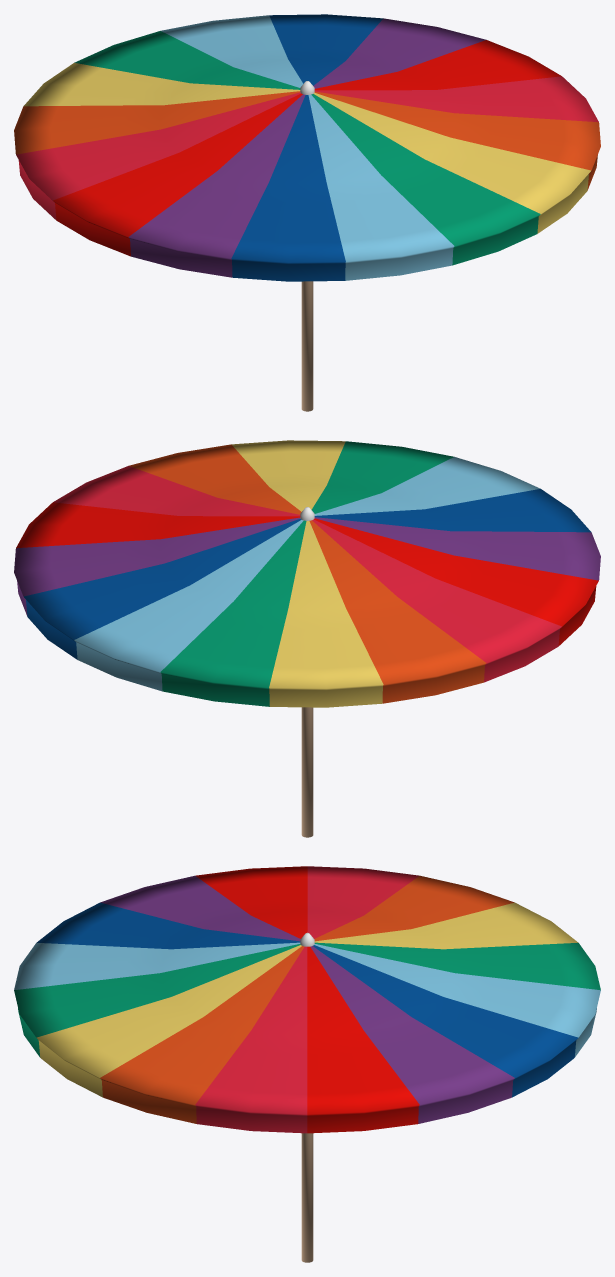
The model's file is parasail.glb.
The picture shows the model from 3 angles, top to bottom: view 1: azimuth 30°, elevation 25°; view 2: azimuth 150°, elevation 25°; view 3: azimuth 270°, elevation 25°; orthographic projection.
Parts seen in each view (by area): view 1: Umbrella; view 2: Umbrella; view 3: Umbrella.
Part boxes in pixels (bbox=[...]): Umbrella: bbox=[14, 14, 600, 411]; Umbrella: bbox=[14, 440, 600, 837]; Umbrella: bbox=[14, 866, 600, 1262].
Size of the model in its own units: 2.75 by 1.69 by 2.75.
